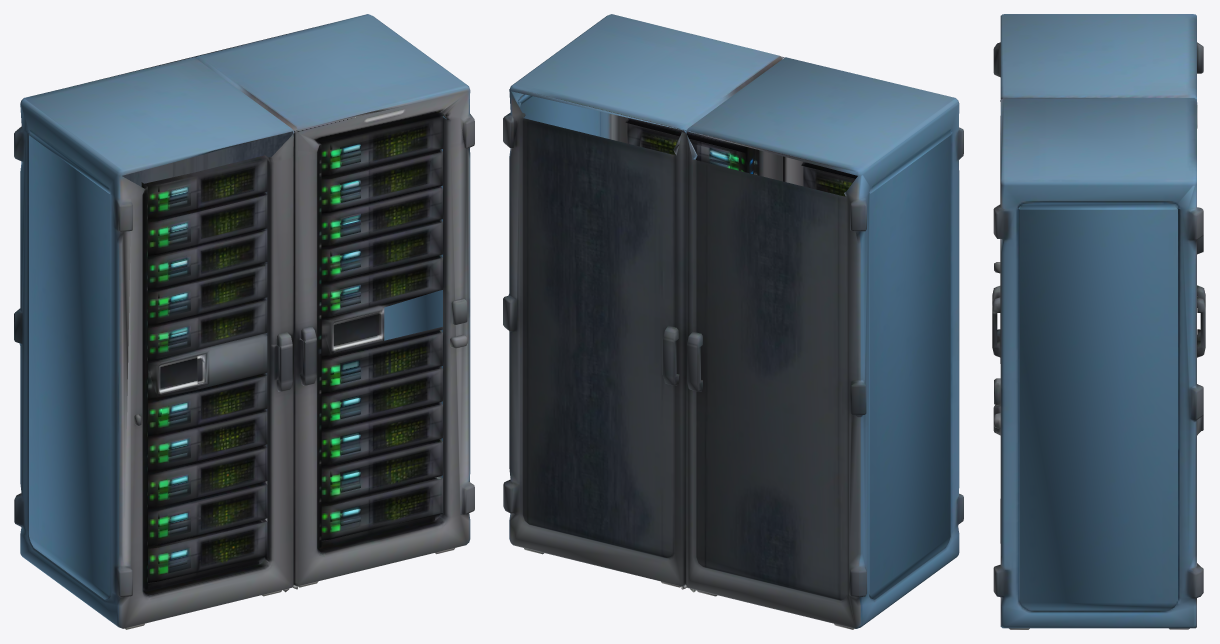
File: server_rack_03b09d1f_v3.glb
3 views of the same model, side by side, from view 1: azimuth 30°, elevation 25°; view 2: azimuth 150°, elevation 25°; view 3: azimuth 270°, elevation 25° (orthographic). The views are drawn at different scales.
Parts seen in each view (by area): view 1: material; view 2: material; view 3: material.
Part boxes in pixels (x1=…): material: x1=14, y1=14, x2=474, y2=629; material: x1=503, y1=14, x2=963, y2=629; material: x1=992, y1=14, x2=1205, y2=629.
Size of the model in its own units: 1.55 by 1.9 by 0.8065.
Materials: 1 (1 with a texture image).
